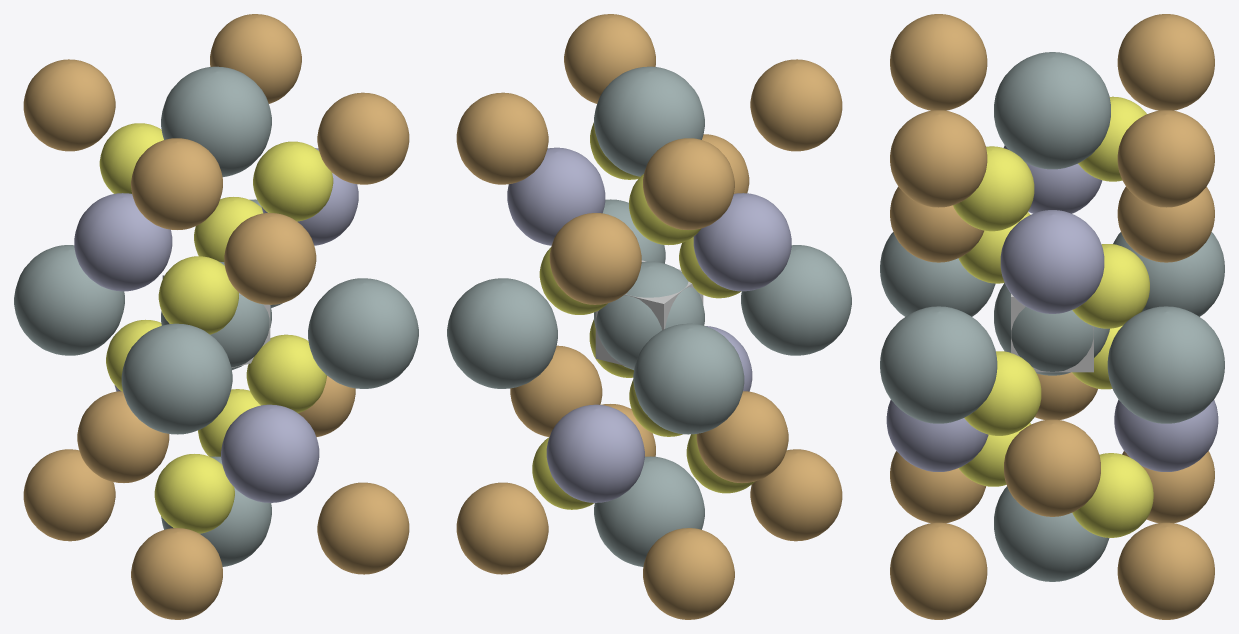
The model's file is CuZnSnS.fbx.
3 views of the same model, side by side, from view 1: azimuth 30°, elevation 25°; view 2: azimuth 150°, elevation 25°; view 3: azimuth 270°, elevation 25° (orthographic). The views are drawn at different scales.
Visible parts, largest first — view 1: Tin|Ball (NURBS)_Tin|Dupli|2.0.0.0.0.0.0.0.0, Tin|Ball (NURBS)_Tin|Dupli|4.0.0.0.0.0.0.0.0, Tin|Ball (NURBS)_Tin|Dupli|3.0.0.0.0.0.0.0.0, Tin|Ball (NURBS)_Tin|Dupli|1.0.0.0.0.0.0.0.0, Zinc|Ball (NURBS)_Zinc|Dupli|0.0.0.0.0.0.0.0.0, Zinc|Ball (NURBS)_Zinc|Dupli|2.0.0.0.0.0.0.0.0, Copper|Ball (NURBS)_Copper|Dupli|3.0.0.0.0.0.0.0.0, Copper|Ball (NURBS)_Copper|Dupli|4.0.0.0.0.0.0.0.0, Copper|Ball (NURBS)_Copper|Dupli|5.0.0.0.0.0.0.0.0, Copper|Ball (NURBS)_Copper|Dupli|11.0.0.0.0.0.0.0.0, Copper|Ball (NURBS)_Copper|Dupli|1.0.0.0.0.0.0.0.0, Copper|Ball (NURBS)_Copper|Dupli|0.0.0.0.0.0.0.0.0 (+15 smaller); view 2: Tin|Ball (NURBS)_Tin|Dupli|3.0.0.0.0.0.0.0.0, Tin|Ball (NURBS)_Tin|Dupli|5.0.0.0.0.0.0.0.0, Tin|Ball (NURBS)_Tin|Dupli|2.0.0.0.0.0.0.0.0, Tin|Ball (NURBS)_Tin|Dupli|1.0.0.0.0.0.0.0.0, Zinc|Ball (NURBS)_Zinc|Dupli|1.0.0.0.0.0.0.0.0, Tin|Ball (NURBS)_Tin|Dupli|0.0.0.0.0.0.0.0.0, Zinc|Ball (NURBS)_Zinc|Dupli|2.0.0.0.0.0.0.0.0, Copper|Ball (NURBS)_Copper|Dupli|1.0.0.0.0.0.0.0.0, Copper|Ball (NURBS)_Copper|Dupli|6.0.0.0.0.0.0.0.0, Copper|Ball (NURBS)_Copper|Dupli|7.0.0.0.0.0.0.0.0, Copper|Ball (NURBS)_Copper|Dupli|12.0.0.0.0.0.0.0.0, Copper|Ball (NURBS)_Copper|Dupli|3.0.0.0.0.0.0.0.0 (+20 smaller); view 3: Tin|Ball (NURBS)_Tin|Dupli|4.0.0.0.0.0.0.0.0, Tin|Ball (NURBS)_Tin|Dupli|5.0.0.0.0.0.0.0.0, Tin|Ball (NURBS)_Tin|Dupli|1.0.0.0.0.0.0.0.0, Zinc|Ball (NURBS)_Zinc|Dupli|3.0.0.0.0.0.0.0.0, Copper|Ball (NURBS)_Copper|Dupli|4.0.0.0.0.0.0.0.0, Copper|Ball (NURBS)_Copper|Dupli|6.0.0.0.0.0.0.0.0, Copper|Ball (NURBS)_Copper|Dupli|5.0.0.0.0.0.0.0.0, Copper|Ball (NURBS)_Copper|Dupli|7.0.0.0.0.0.0.0.0, Copper|Ball (NURBS)_Copper|Dupli|1.0.0.0.0.0.0.0.0, Copper|Ball (NURBS)_Copper|Dupli|3.0.0.0.0.0.0.0.0, Copper|Ball (NURBS)_Copper|Dupli|9.0.0.0.0.0.0.0.0, Tin|Ball (NURBS)_Tin|Dupli|0.0.0.0.0.0.0.0.0 (+20 smaller).
Part boxes in pixels (bbox=[...]): Tin|Ball (NURBS)_Tin|Dupli|2.0.0.0.0.0.0.0.0: bbox=[121, 323, 232, 434]; Tin|Ball (NURBS)_Tin|Dupli|4.0.0.0.0.0.0.0.0: bbox=[308, 278, 418, 388]; Tin|Ball (NURBS)_Tin|Dupli|3.0.0.0.0.0.0.0.0: bbox=[14, 245, 124, 355]; Tin|Ball (NURBS)_Tin|Dupli|1.0.0.0.0.0.0.0.0: bbox=[161, 66, 271, 176]; Zinc|Ball (NURBS)_Zinc|Dupli|0.0.0.0.0.0.0.0.0: bbox=[221, 404, 319, 502]; Zinc|Ball (NURBS)_Zinc|Dupli|2.0.0.0.0.0.0.0.0: bbox=[74, 193, 172, 291]; Copper|Ball (NURBS)_Copper|Dupli|3.0.0.0.0.0.0.0.0: bbox=[23, 59, 115, 151]; Copper|Ball (NURBS)_Copper|Dupli|4.0.0.0.0.0.0.0.0: bbox=[317, 482, 409, 574]; Copper|Ball (NURBS)_Copper|Dupli|5.0.0.0.0.0.0.0.0: bbox=[317, 92, 409, 184]; Copper|Ball (NURBS)_Copper|Dupli|11.0.0.0.0.0.0.0.0: bbox=[224, 213, 316, 304]; Copper|Ball (NURBS)_Copper|Dupli|1.0.0.0.0.0.0.0.0: bbox=[131, 138, 222, 229]; Copper|Ball (NURBS)_Copper|Dupli|0.0.0.0.0.0.0.0.0: bbox=[131, 528, 222, 619]; Tin|Ball (NURBS)_Tin|Dupli|3.0.0.0.0.0.0.0.0: bbox=[633, 323, 744, 434]; Tin|Ball (NURBS)_Tin|Dupli|5.0.0.0.0.0.0.0.0: bbox=[447, 278, 557, 388]; Tin|Ball (NURBS)_Tin|Dupli|2.0.0.0.0.0.0.0.0: bbox=[741, 245, 851, 355]; Tin|Ball (NURBS)_Tin|Dupli|1.0.0.0.0.0.0.0.0: bbox=[594, 66, 704, 176]; Zinc|Ball (NURBS)_Zinc|Dupli|1.0.0.0.0.0.0.0.0: bbox=[546, 404, 644, 502]; Tin|Ball (NURBS)_Tin|Dupli|0.0.0.0.0.0.0.0.0: bbox=[594, 456, 704, 566]; Zinc|Ball (NURBS)_Zinc|Dupli|2.0.0.0.0.0.0.0.0: bbox=[693, 193, 791, 291]; Copper|Ball (NURBS)_Copper|Dupli|1.0.0.0.0.0.0.0.0: bbox=[750, 59, 842, 151]; Copper|Ball (NURBS)_Copper|Dupli|6.0.0.0.0.0.0.0.0: bbox=[456, 482, 548, 574]; Copper|Ball (NURBS)_Copper|Dupli|7.0.0.0.0.0.0.0.0: bbox=[456, 92, 548, 184]; Copper|Ball (NURBS)_Copper|Dupli|12.0.0.0.0.0.0.0.0: bbox=[549, 213, 641, 304]; Copper|Ball (NURBS)_Copper|Dupli|3.0.0.0.0.0.0.0.0: bbox=[643, 138, 734, 229]; Tin|Ball (NURBS)_Tin|Dupli|4.0.0.0.0.0.0.0.0: bbox=[880, 306, 997, 423]; Tin|Ball (NURBS)_Tin|Dupli|5.0.0.0.0.0.0.0.0: bbox=[1107, 306, 1224, 423]; Tin|Ball (NURBS)_Tin|Dupli|1.0.0.0.0.0.0.0.0: bbox=[994, 52, 1110, 169]; Zinc|Ball (NURBS)_Zinc|Dupli|3.0.0.0.0.0.0.0.0: bbox=[1000, 210, 1104, 313]; Copper|Ball (NURBS)_Copper|Dupli|4.0.0.0.0.0.0.0.0: bbox=[890, 522, 987, 619]; Copper|Ball (NURBS)_Copper|Dupli|6.0.0.0.0.0.0.0.0: bbox=[1117, 522, 1214, 619]; Copper|Ball (NURBS)_Copper|Dupli|5.0.0.0.0.0.0.0.0: bbox=[890, 110, 987, 207]; Copper|Ball (NURBS)_Copper|Dupli|7.0.0.0.0.0.0.0.0: bbox=[1117, 110, 1214, 207]; Copper|Ball (NURBS)_Copper|Dupli|1.0.0.0.0.0.0.0.0: bbox=[890, 14, 987, 110]; Copper|Ball (NURBS)_Copper|Dupli|3.0.0.0.0.0.0.0.0: bbox=[1117, 14, 1214, 110]; Copper|Ball (NURBS)_Copper|Dupli|9.0.0.0.0.0.0.0.0: bbox=[1004, 419, 1100, 516]; Tin|Ball (NURBS)_Tin|Dupli|0.0.0.0.0.0.0.0.0: bbox=[994, 486, 1109, 581].
Bounding box in the file's own units: 828 × 1375 × 828.
